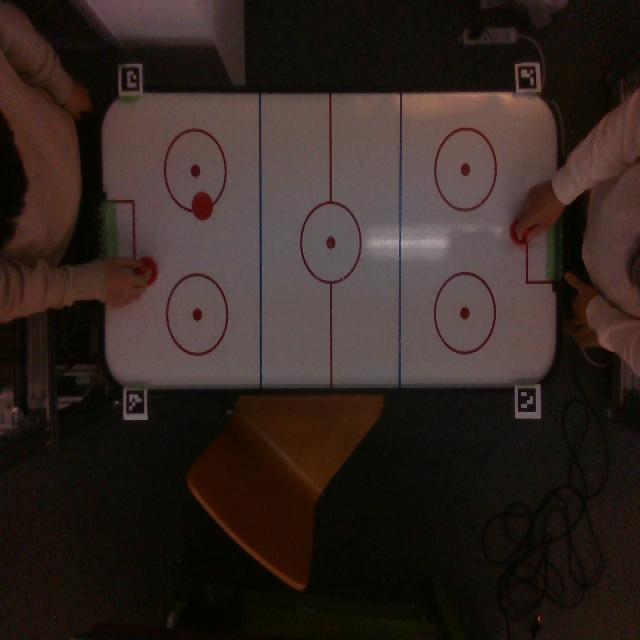puck: (192, 192, 212, 220)
